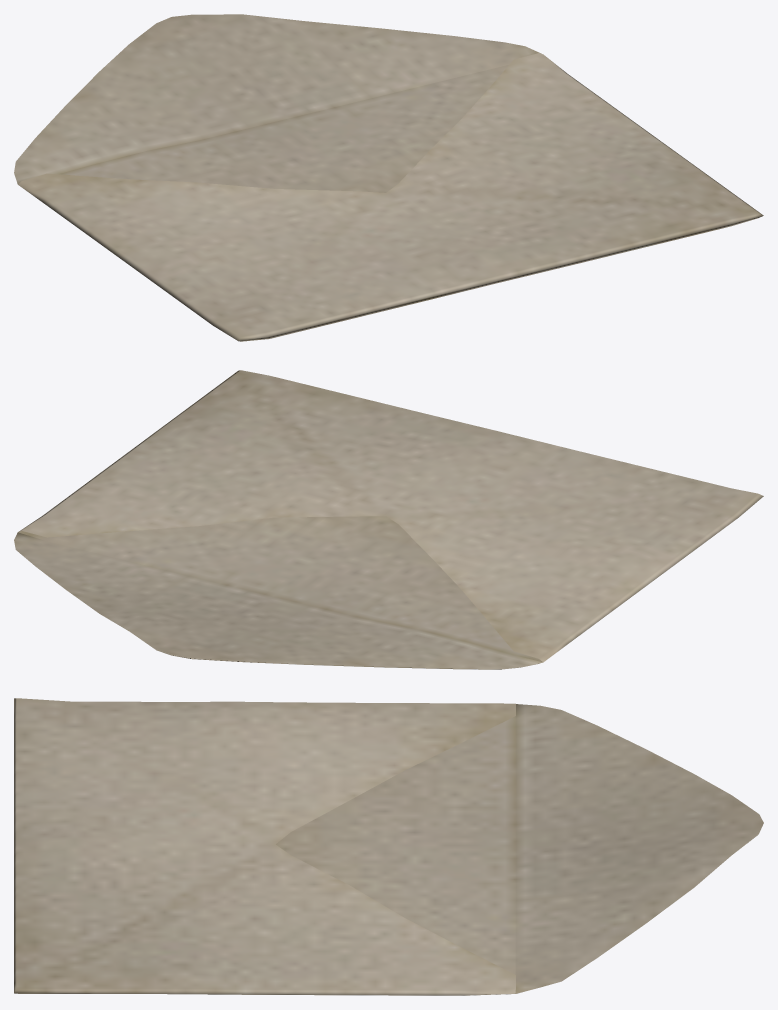
File: 030_envelope01a.fbx
3 renders of one model, top to bottom at view 1: azimuth 30°, elevation 25°; view 2: azimuth 150°, elevation 25°; view 3: azimuth 270°, elevation 25°, orthographic. The views are drawn at different scales.
Visible parts, largest first — view 1: LOD_1_Group_0_Sub_1__sm36_030_Envelope01A_A_Mat; view 2: LOD_1_Group_0_Sub_1__sm36_030_Envelope01A_A_Mat; view 3: LOD_1_Group_0_Sub_1__sm36_030_Envelope01A_A_Mat.
Part boxes in pixels (x1,y1,x2,y2): LOD_1_Group_0_Sub_1__sm36_030_Envelope01A_A_Mat: (14, 14, 763, 341); LOD_1_Group_0_Sub_1__sm36_030_Envelope01A_A_Mat: (14, 370, 763, 669); LOD_1_Group_0_Sub_1__sm36_030_Envelope01A_A_Mat: (14, 698, 763, 995).
Bounding box in the file's own units: 0.1833 × 0.00913 × 0.1991.
